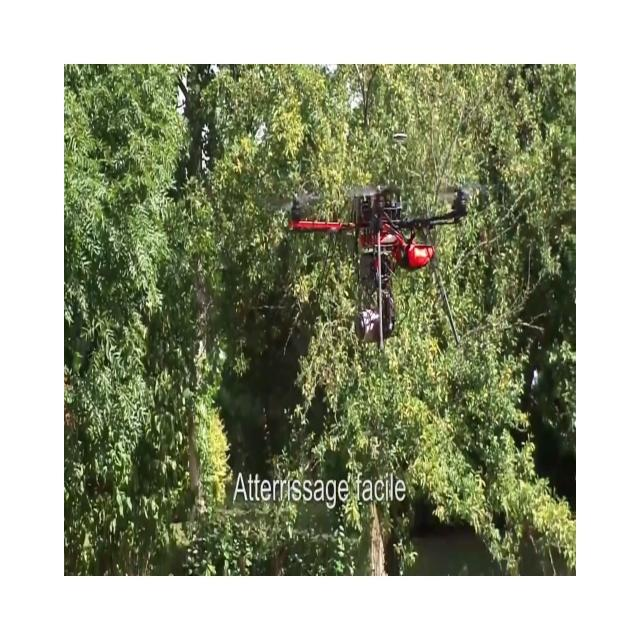drone: (272, 180, 484, 348)
